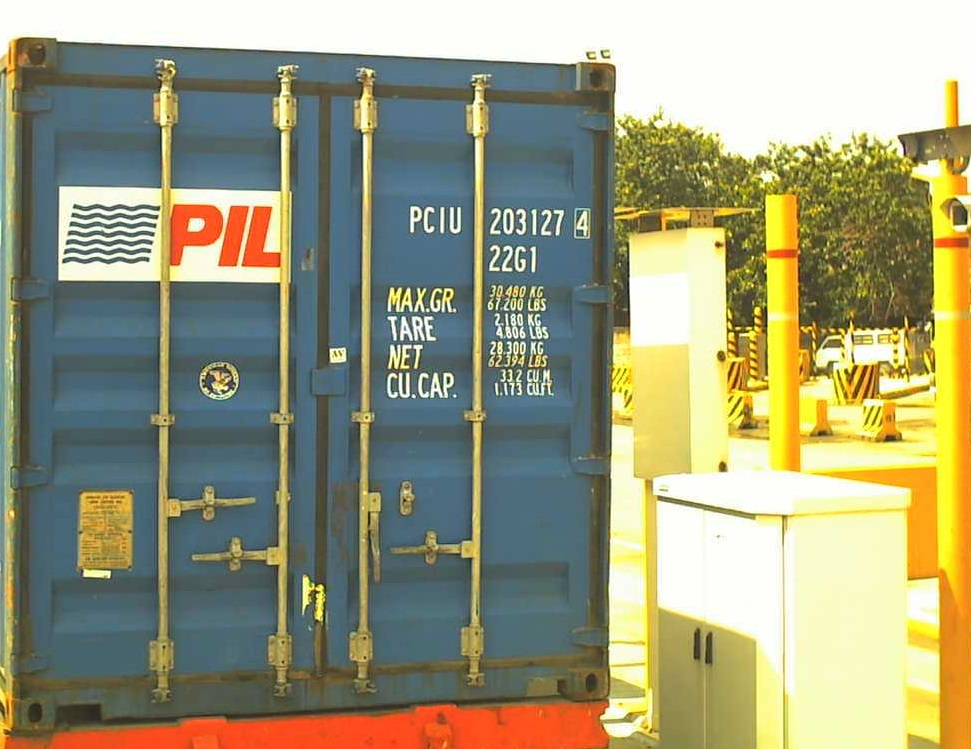container_door: (6, 37, 603, 734)
